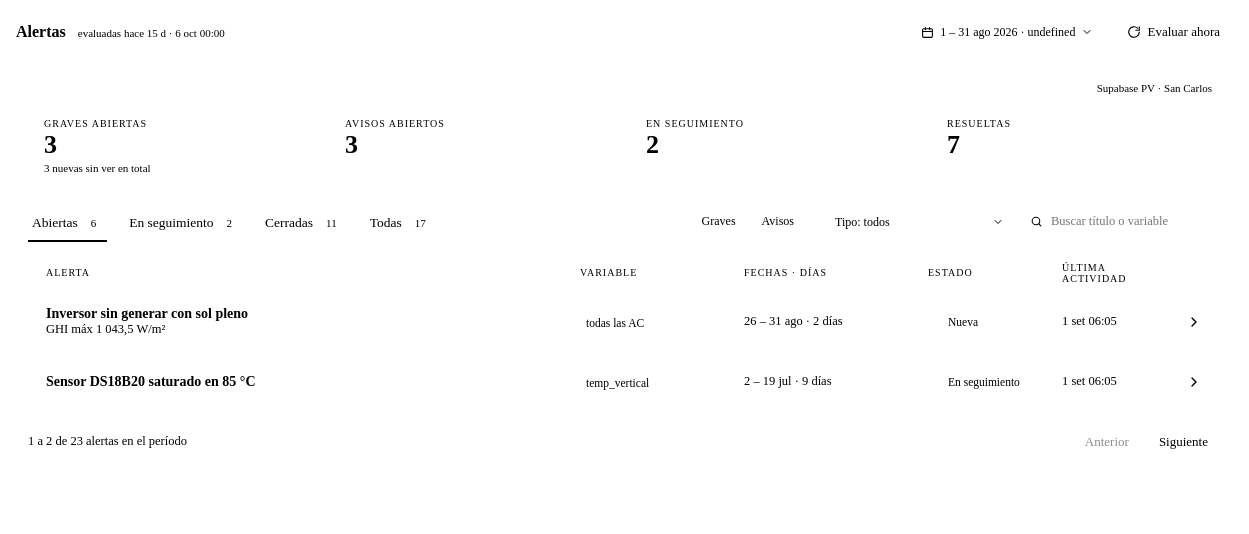
Evaluar ahora › si el evaluador falla lo dice y no refresca nada
Expected: the button "Inversor sin generar" is shown, [28,292,1220,352]
Note: When se pulsa Evaluar ahora
Click the button "Evaluar ahora". click: click(1174, 32)
box: [1116,16,1232,48]
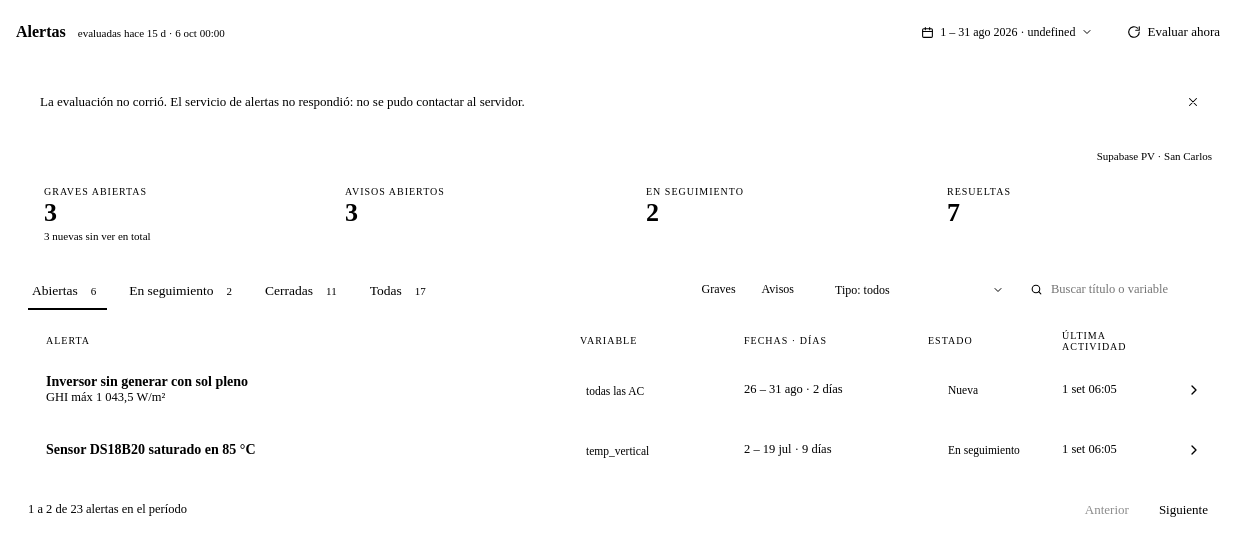
Result: the text "La evaluación no corrió. El servicio de alertas no respondió" is shown at [40,94,525,109]
